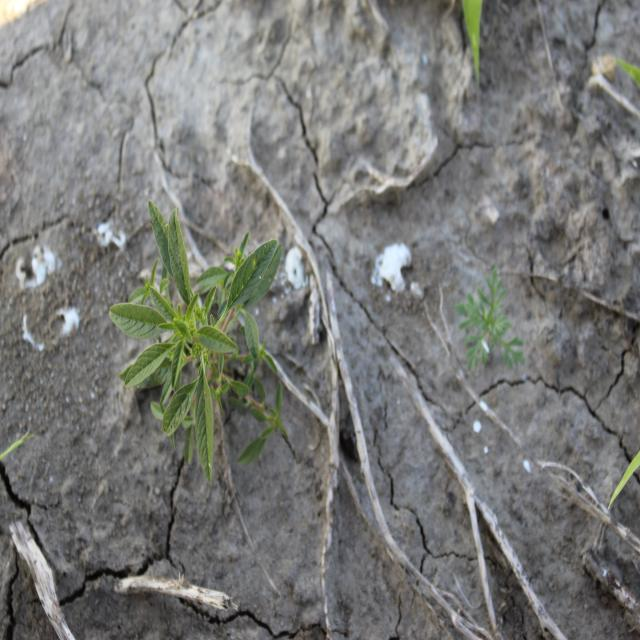Ragweed: (454, 264, 530, 377)
Waterhemp: (108, 198, 290, 486)
